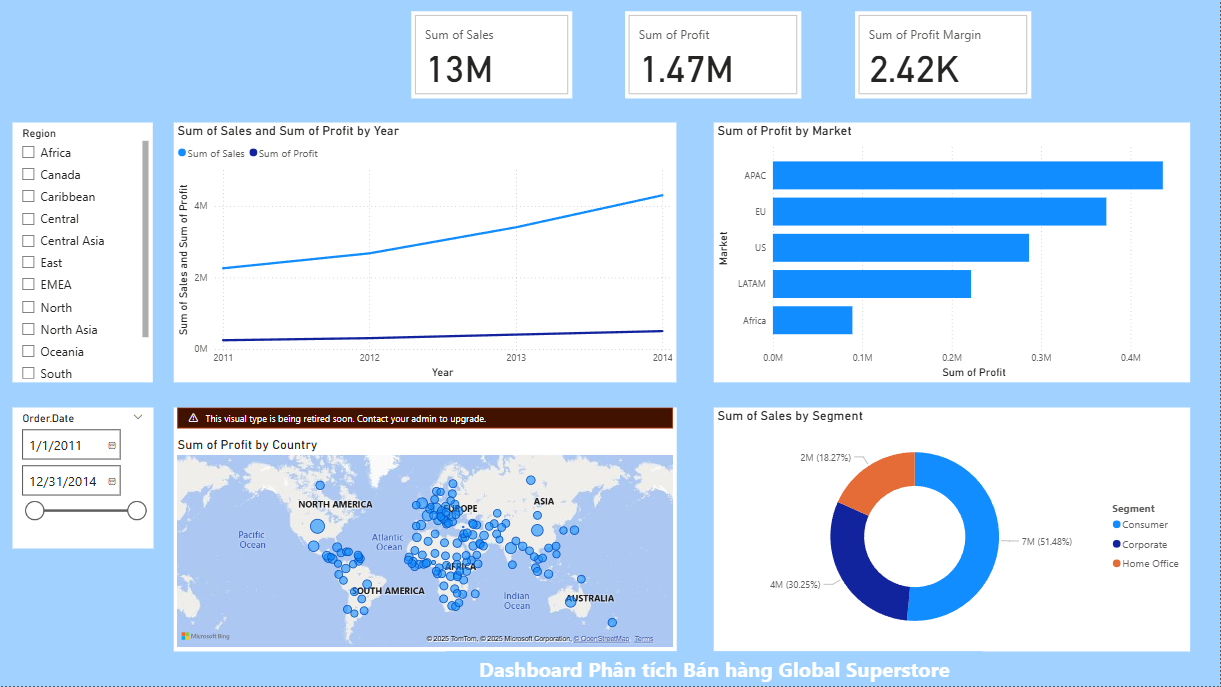

The dashboard page shown, as its layout file describes it:
{"tool":"powerbi","page":{"name":"Page 1","canvas":[1600,900],"ordinal":0},"visuals":[{"type":"cardVisual","fields":{"Data":["Sum(Superstore_Final_For_PowerBI.Sales)"]},"box":[539.3,14.8,211.5,114.8],"z":0},{"type":"cardVisual","fields":{"Data":["Sum(Superstore_Final_For_PowerBI.Profit)"]},"box":[819.7,14.8,231.1,114.8],"z":1000},{"type":"cardVisual","fields":{"Data":["Sum(Superstore_Final_For_PowerBI.Profit Margin)"]},"box":[1121.3,14.8,231.1,114.8],"z":2000},{"type":"lineChart","fields":{"Category":["Superstore_Final_For_PowerBI.Order.Date.Variation.Date Hierarchy.Year","Superstore_Final_For_PowerBI.Order.Date.Variation.Date Hierarchy.Quarter","Superstore_Final_For_PowerBI.Order.Date.Variation.Date Hierarchy.Month","Superstore_Final_For_PowerBI.Order.Date.Variation.Date Hierarchy.Day"],"Y":["Sum(Superstore_Final_For_PowerBI.Sales)","Sum(Superstore_Final_For_PowerBI.Profit)"]},"box":[227.9,160.7,659,341],"z":3000},{"type":"barChart","fields":{"Category":["Superstore_Final_For_PowerBI.Market"],"Y":["Sum(Superstore_Final_For_PowerBI.Profit)"]},"box":[936.1,160.7,624.6,341],"z":4000},{"type":"donutChart","fields":{"Category":["Superstore_Final_For_PowerBI.Segment"],"Y":["Sum(Superstore_Final_For_PowerBI.Sales)"]},"box":[936.1,534.4,624.6,319.7],"z":5000},{"type":"map","fields":{"Category":["Superstore_Final_For_PowerBI.Country"],"Size":["Sum(Superstore_Final_For_PowerBI.Profit)"]},"box":[227.9,534.4,659,319.7],"z":6000},{"type":"slicer","fields":{"Values":["Superstore_Final_For_PowerBI.Region"]},"box":[16.4,160.7,183.6,341],"z":7000},{"type":"slicer","fields":{"Values":["Superstore_Final_For_PowerBI.Order.Date"]},"box":[16.4,534.4,183.6,183.6],"z":8000},{"type":"textbox","box":[585.2,854.1,703.3,45.9],"z":9000}]}

Visuals, with their boxes in screenshot pixels (x1, y1, x2, y2), scaled from the page's 1600x900 canvas onto the 1221x687 screenshot:
cardVisual - Sum(Superstore_Final_For_PowerBI.Sales): box=[412, 11, 573, 99]
cardVisual - Sum(Superstore_Final_For_PowerBI.Profit): box=[626, 11, 802, 99]
cardVisual - Sum(Superstore_Final_For_PowerBI.Profit Margin): box=[856, 11, 1032, 99]
lineChart - Superstore_Final_For_PowerBI.Order.Date.Variation.Date Hierarchy.Year x Superstore_Final_For_PowerBI.Order.Date.Variation.Date Hierarchy.Quarter: box=[174, 123, 677, 383]
barChart - Superstore_Final_For_PowerBI.Market x Sum(Superstore_Final_For_PowerBI.Profit): box=[714, 123, 1191, 383]
donutChart - Superstore_Final_For_PowerBI.Segment x Sum(Superstore_Final_For_PowerBI.Sales): box=[714, 408, 1191, 652]
map - Superstore_Final_For_PowerBI.Country x Sum(Superstore_Final_For_PowerBI.Profit): box=[174, 408, 677, 652]
slicer - Superstore_Final_For_PowerBI.Region: box=[13, 123, 153, 383]
slicer - Superstore_Final_For_PowerBI.Order.Date: box=[13, 408, 153, 548]
textbox: box=[447, 652, 983, 686]
